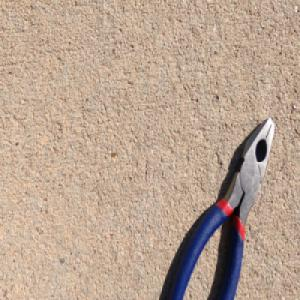Pliers: (167, 114, 275, 300)
